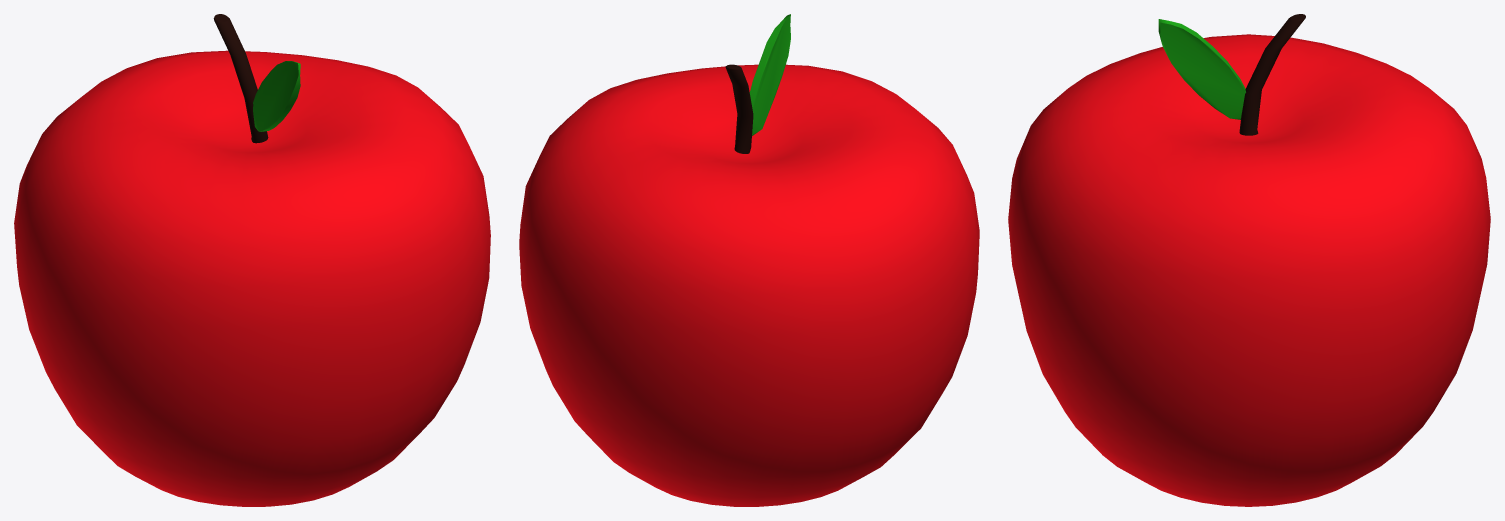
File: Manzana.fbx
The picture shows the model from 3 angles, left to right: view 1: azimuth 30°, elevation 25°; view 2: azimuth 150°, elevation 25°; view 3: azimuth 270°, elevation 25°; orthographic projection. The views are drawn at different scales.
Visible parts, largest first — view 1: Manzana; view 2: Manzana; view 3: Manzana.
Part boxes in pixels (box(x1,y1,x2,y2)): Manzana: box(14, 14, 490, 506); Manzana: box(519, 14, 979, 506); Manzana: box(1008, 14, 1490, 506).
Size of the model in its own units: 14.97 by 15.64 by 14.81.
